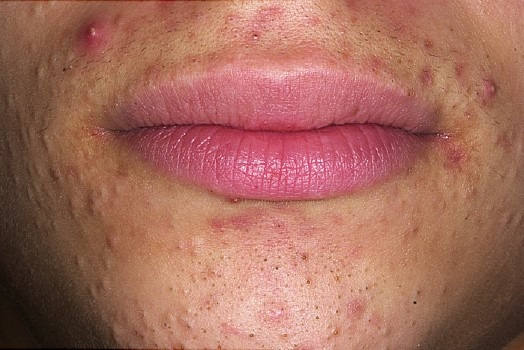Acne: (80, 19, 104, 45), (482, 77, 501, 101)
